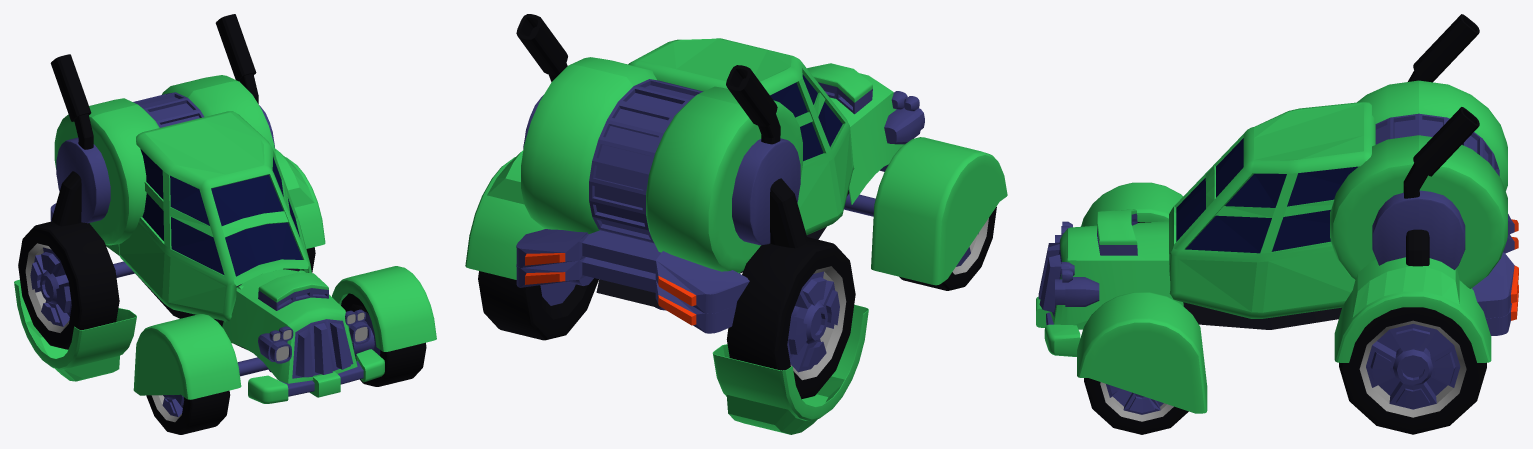
File: Car_2.FBX
3 views of the same model, side by side, from view 1: azimuth 30°, elevation 25°; view 2: azimuth 150°, elevation 25°; view 3: azimuth 270°, elevation 25° (orthographic). The views are drawn at different scales.
Visible parts, largest first — view 1: Box125, Level 03, Box124, Weel 007, Cylinder098, Cylinder097, Cylinder103, weel 003, Weel 005, Cylinder099; view 2: Level 03, Weel 007, Cylinder098, Box125, Box 01, Cylinder103, Box124, Level_00, Cylinder099, Box 02, weel 003, Base001; view 3: Box125, Level 03, Level_00, Box124, Cylinder097, Cylinder099, Weel 005, Cylinder098, Box 01, Base001, Box 02.
Part boxes in pixels (x1,y1,x2,y2): Box125: (118, 111, 311, 321); Level 03: (50, 14, 276, 245); Box124: (222, 269, 384, 403); Weel 007: (18, 221, 119, 349); Cylinder098: (133, 314, 241, 399); Cylinder097: (332, 266, 436, 351); Cylinder103: (14, 279, 136, 381); weel 003: (146, 390, 230, 434); Weel 005: (341, 293, 426, 386); Cylinder099: (275, 148, 325, 248); Level 03: (516, 14, 807, 272); Weel 007: (726, 237, 855, 399); Cylinder098: (871, 137, 1007, 285); Box125: (628, 38, 854, 234); Box 01: (516, 229, 749, 313); Cylinder103: (712, 304, 868, 434); Box124: (807, 63, 924, 204); Level_00: (478, 271, 598, 340); Cylinder099: (465, 150, 544, 279); Box 02: (516, 257, 736, 333); weel 003: (899, 207, 996, 290); Base001: (596, 190, 849, 307); Box125: (1169, 102, 1375, 318); Level 03: (1330, 14, 1507, 288); Level_00: (1339, 307, 1486, 434); Box124: (1036, 209, 1183, 356); Cylinder097: (1077, 292, 1207, 413); Cylinder099: (1334, 257, 1491, 362); Weel 005: (1084, 378, 1188, 434); Cylinder098: (1081, 182, 1182, 226); Box 01: (1472, 214, 1518, 318); Base001: (1183, 302, 1341, 329); Box 02: (1486, 234, 1518, 335).
Bounding box in the file's own units: 7.81 × 8.87 × 11.31.
